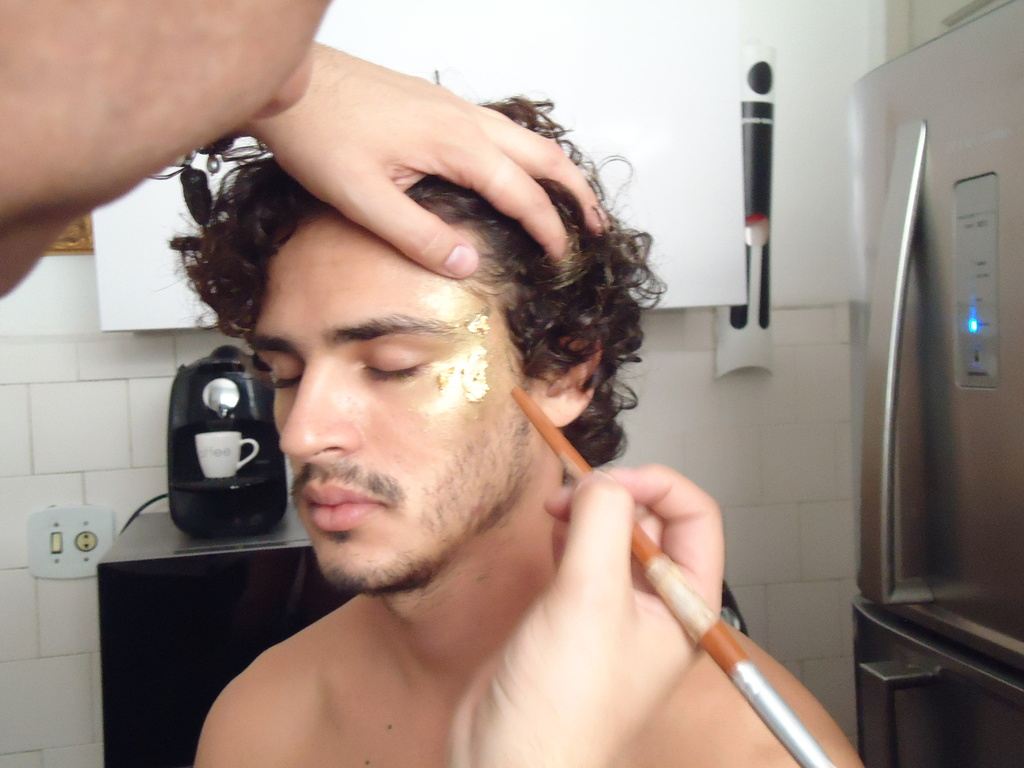Person: (0, 0, 725, 767)
